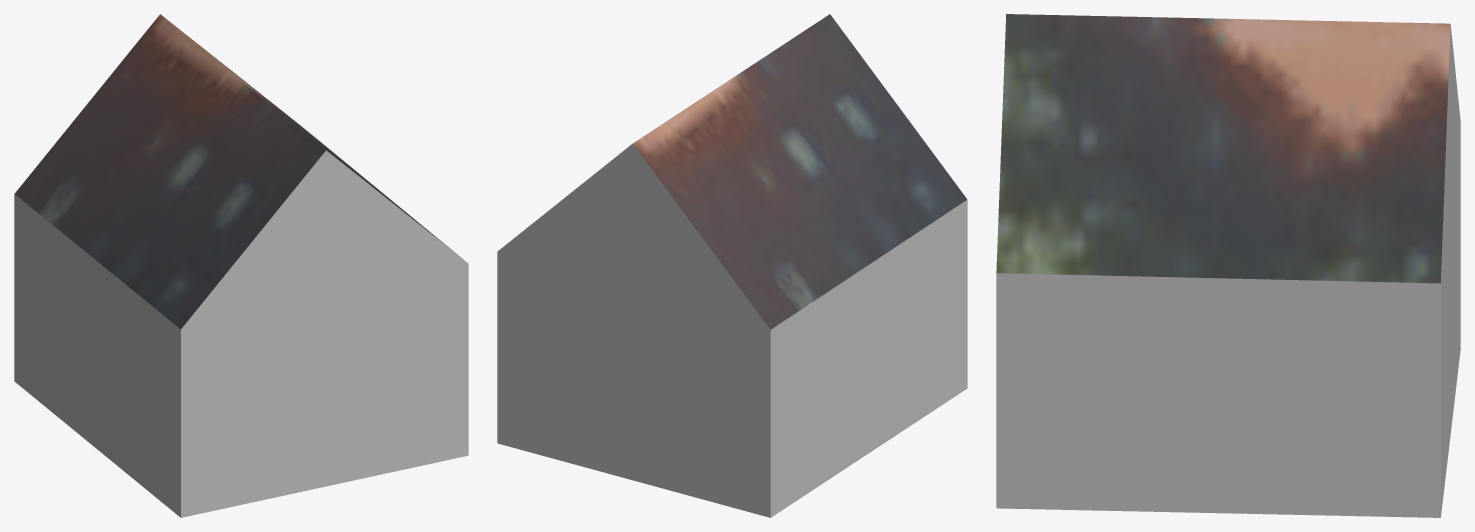
The model's file is DEBW_0010007Txge.gltf.
3 views of the same model, side by side, from view 1: azimuth 30°, elevation 25°; view 2: azimuth 150°, elevation 25°; view 3: azimuth 270°, elevation 25° (orthographic). The views are drawn at different scales.
Visible parts, largest first — view 1: Z_UP; view 2: Z_UP; view 3: Z_UP.
Part boxes in pixels (left/top/right/bottom): Z_UP: left=14, top=14, right=468, bottom=517; Z_UP: left=497, top=14, right=967, bottom=517; Z_UP: left=996, top=14, right=1460, bottom=517.
Size of the model in its own units: 11.64 by 12.65 by 12.93.
Materials: 2 (1 with a texture image).
